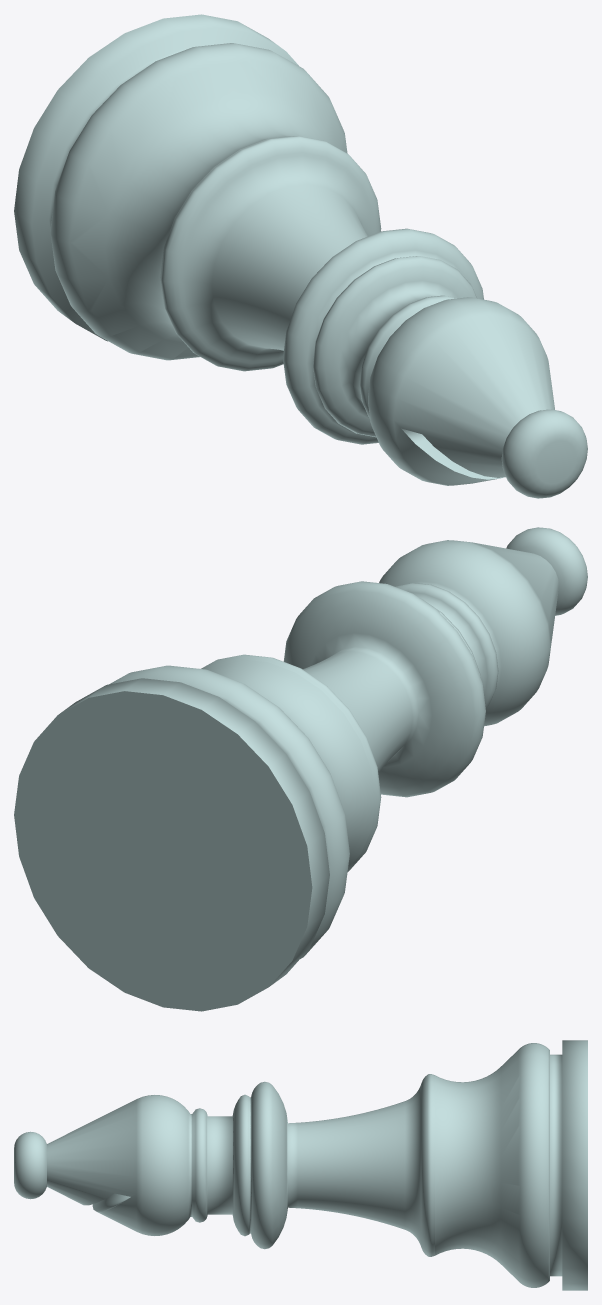
Rendered from Bishop.obj.
The picture shows the model from 3 angles, top to bottom: view 1: azimuth 30°, elevation 25°; view 2: azimuth 150°, elevation 25°; view 3: azimuth 270°, elevation 25°; orthographic projection. The views are drawn at different scales.
Parts seen in each view (by area): view 1: Mesh1 Agrupar_3_1 Group1 Model, Mesh2 Componente_1_1 Group1 Model; view 2: Mesh2 Componente_1_1 Group1 Model, Mesh1 Agrupar_3_1 Group1 Model; view 3: Mesh1 Agrupar_3_1 Group1 Model, Mesh2 Componente_1_1 Group1 Model.
Part boxes in pixels (x1,y1,x2,y2): Mesh1 Agrupar_3_1 Group1 Model: (160, 136, 587, 498); Mesh2 Componente_1_1 Group1 Model: (14, 14, 347, 360); Mesh2 Componente_1_1 Group1 Model: (14, 659, 375, 1011); Mesh1 Agrupar_3_1 Group1 Model: (201, 527, 587, 871); Mesh1 Agrupar_3_1 Group1 Model: (14, 1074, 434, 1256); Mesh2 Componente_1_1 Group1 Model: (435, 1040, 587, 1290).
Size of the model in its own units: 58.14 by 58.14 by 133.
